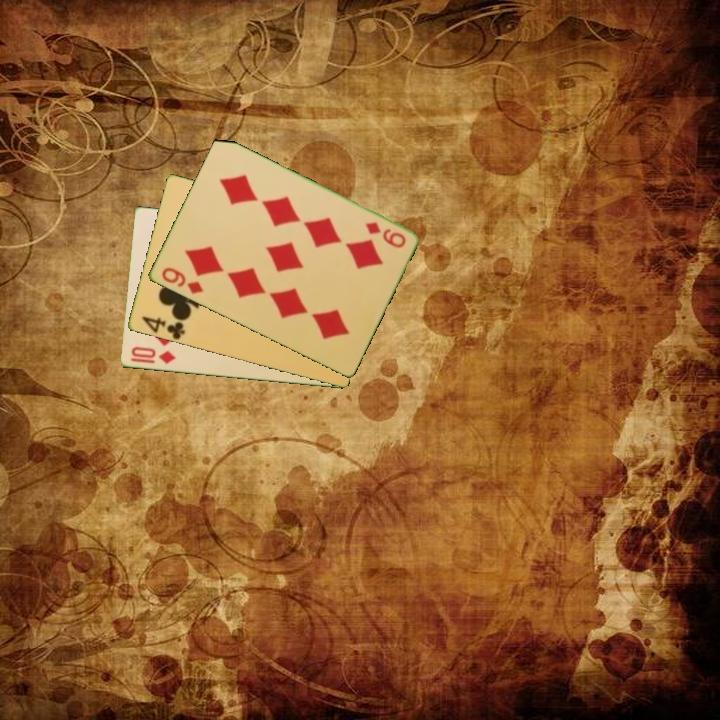10d: (128, 343, 178, 367)
4c: (138, 313, 188, 342)
9d: (158, 264, 206, 297), (362, 218, 408, 251)
